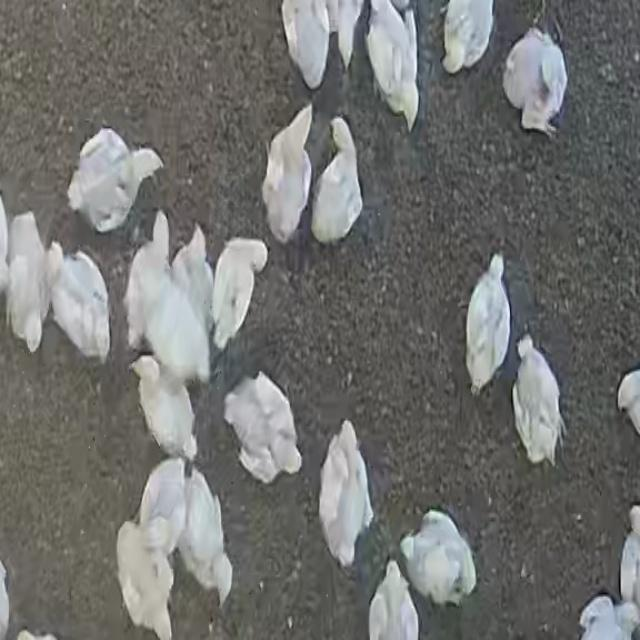chicken: (64, 130, 159, 232), (223, 372, 302, 484), (260, 104, 321, 243), (318, 422, 376, 568), (176, 465, 233, 607), (114, 517, 178, 640), (130, 354, 200, 466), (48, 244, 113, 363), (401, 510, 478, 608), (510, 338, 566, 468), (502, 34, 570, 140), (312, 114, 365, 250), (210, 236, 269, 356), (139, 271, 206, 373), (372, 0, 422, 132), (465, 255, 511, 395), (6, 212, 52, 352), (126, 211, 169, 352), (171, 225, 215, 338), (138, 457, 188, 549), (439, 0, 499, 76), (280, 0, 330, 86), (368, 560, 422, 639), (320, 0, 364, 70), (575, 595, 636, 639), (620, 518, 640, 608), (616, 366, 640, 440)
